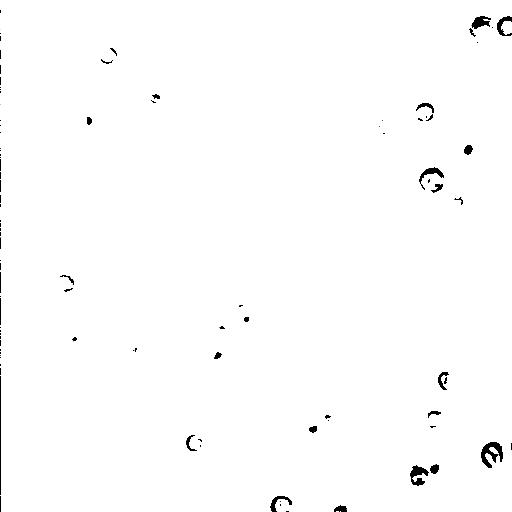micro-algae: (348, 34, 432, 115), (27, 443, 114, 511), (191, 274, 253, 333), (485, 424, 511, 511), (372, 11, 415, 55), (418, 449, 455, 484), (330, 135, 364, 170), (449, 126, 481, 163), (65, 107, 101, 136), (297, 411, 330, 442), (195, 341, 230, 368), (469, 12, 497, 45), (418, 167, 447, 196), (3, 265, 33, 293), (330, 69, 359, 95), (230, 304, 259, 329), (199, 33, 225, 60), (121, 339, 149, 364), (481, 440, 505, 469), (64, 329, 89, 356), (368, 117, 393, 143), (413, 101, 435, 124), (437, 370, 458, 392), (51, 273, 75, 292), (409, 465, 430, 486), (269, 493, 293, 511), (185, 433, 205, 453), (98, 45, 119, 64), (425, 409, 445, 428), (497, 14, 512, 35), (449, 194, 465, 211), (331, 503, 349, 511)
